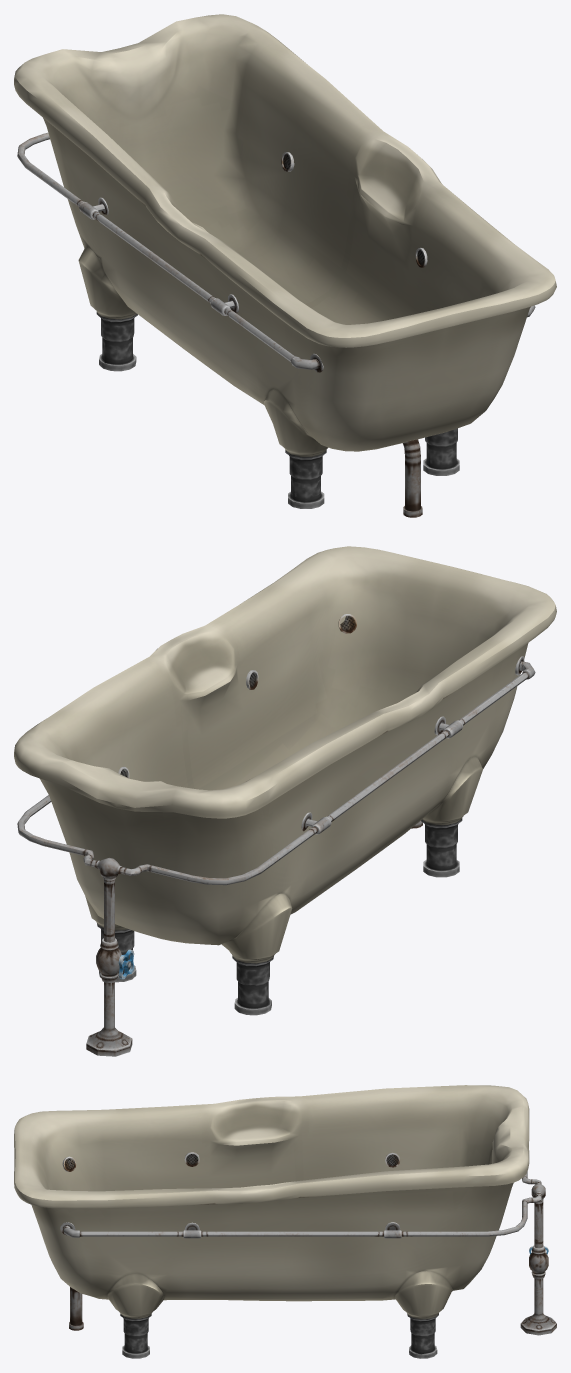
The model's file is Bath.FBX.
The picture shows the model from 3 angles, top to bottom: view 1: azimuth 30°, elevation 25°; view 2: azimuth 150°, elevation 25°; view 3: azimuth 270°, elevation 25°; orthographic projection. The views are drawn at different scales.
Parts seen in each view (by area): view 1: Bath005; view 2: Bath005; view 3: Bath005.
Part boxes in pixels (x1,y1,x2,y2): Bath005: (14, 14, 556, 517); Bath005: (14, 546, 556, 1056); Bath005: (14, 1085, 556, 1358).
Bounding box in the file's own units: 92.78 × 91.55 × 224.
